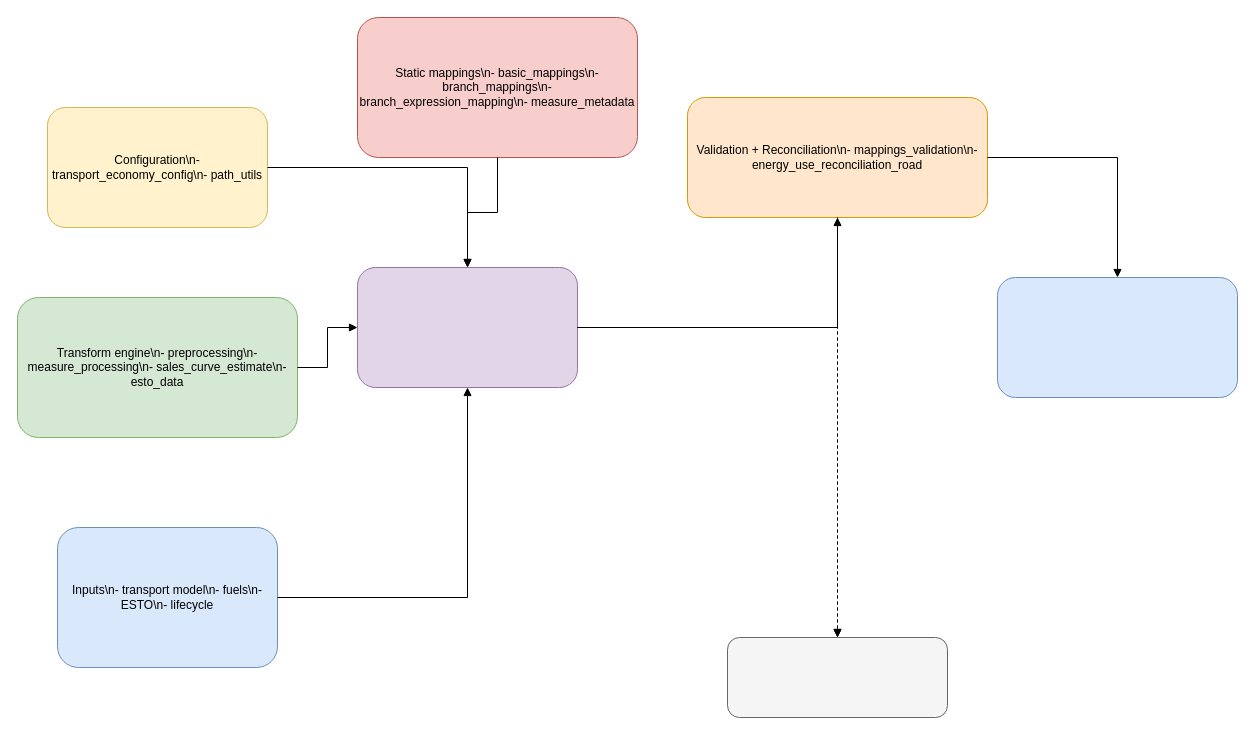
Some shapes in this 1255 by 735 pixel diagram are drawn without their labels. The shapes that lost their labels are listed below. From the top down, each one's centre as x and y in pixels, then its label:
At (x=467, y=327): "Orchestrator\nMAIN_leap_import.py".
At (x=1117, y=337): "Outputs\n- results/*.xlsx\n- reconciliation CSVs\n- checkpoints\n- error CSVs".
At (x=837, y=677): "Optional LEAP COM write".
